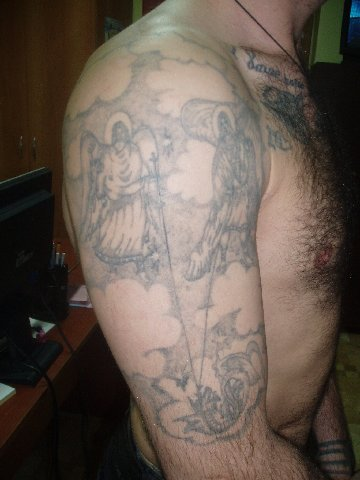tatu1_angel: (175, 103, 264, 293), (76, 108, 174, 279)
